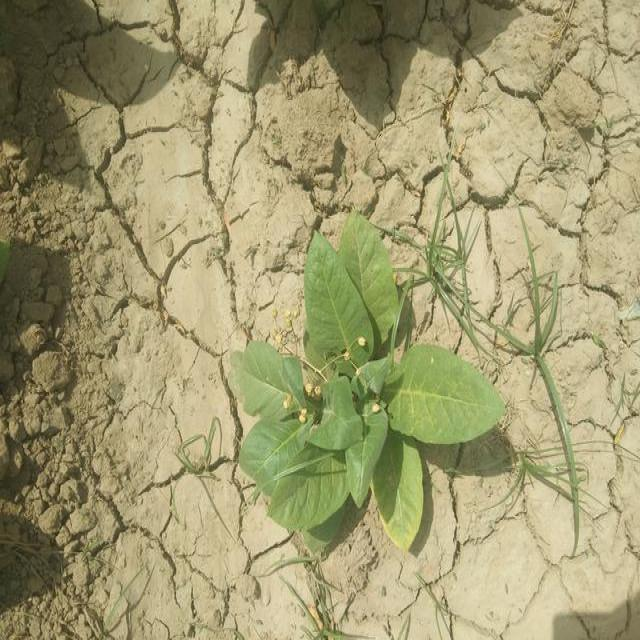crop: (233, 223, 506, 545)
